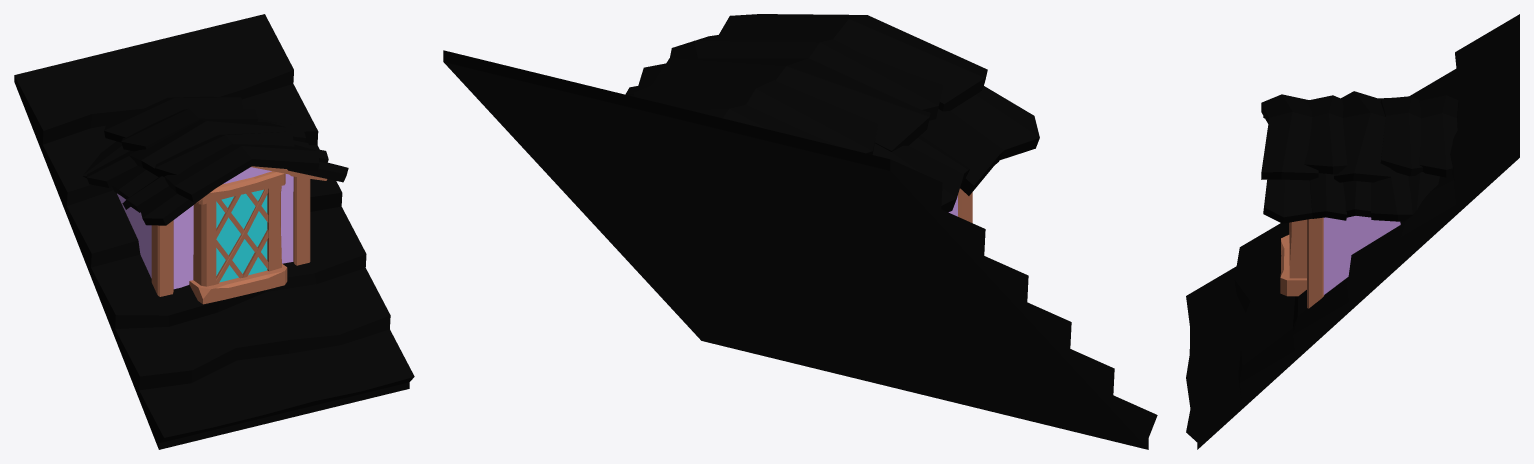
Rendered from Roof 03 Window 02.fbx.
3 views of the same model, side by side, from view 1: azimuth 30°, elevation 25°; view 2: azimuth 150°, elevation 25°; view 3: azimuth 270°, elevation 25° (orthographic). The views are drawn at different scales.
Visible parts, largest first — view 1: Roof 03 Window 01; view 2: Roof 03 Window 01; view 3: Roof 03 Window 01.
Part boxes in pixels (x1,y1,x2,y2): Roof 03 Window 01: (14, 14, 414, 449); Roof 03 Window 01: (443, 14, 1157, 449); Roof 03 Window 01: (1186, 14, 1519, 449).
Size of the model in its own units: 400 by 410 by 414.
